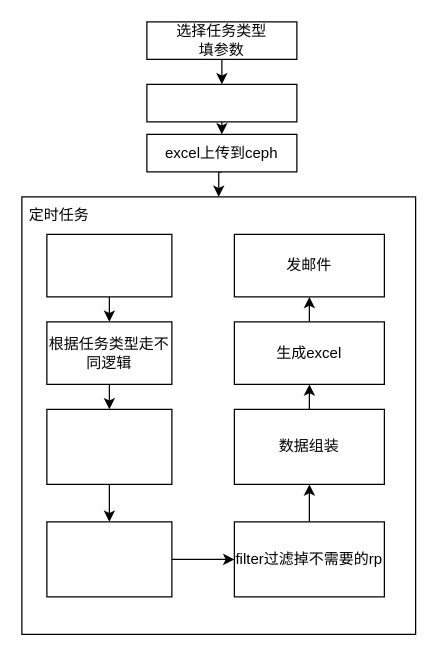
Some shapes in this 438 by 656 pixel diagram are drawn without their labels. The centre of each missing label's shape, as x and y in pixels:
"任务抓取" belongs at [109,265].
"多线程调实时查询工具" belongs at [109,559].
"提交任务" belongs at [221,102].
"通过rp查库对应的mhotelid（Set<String>）" belongs at [109,446].
